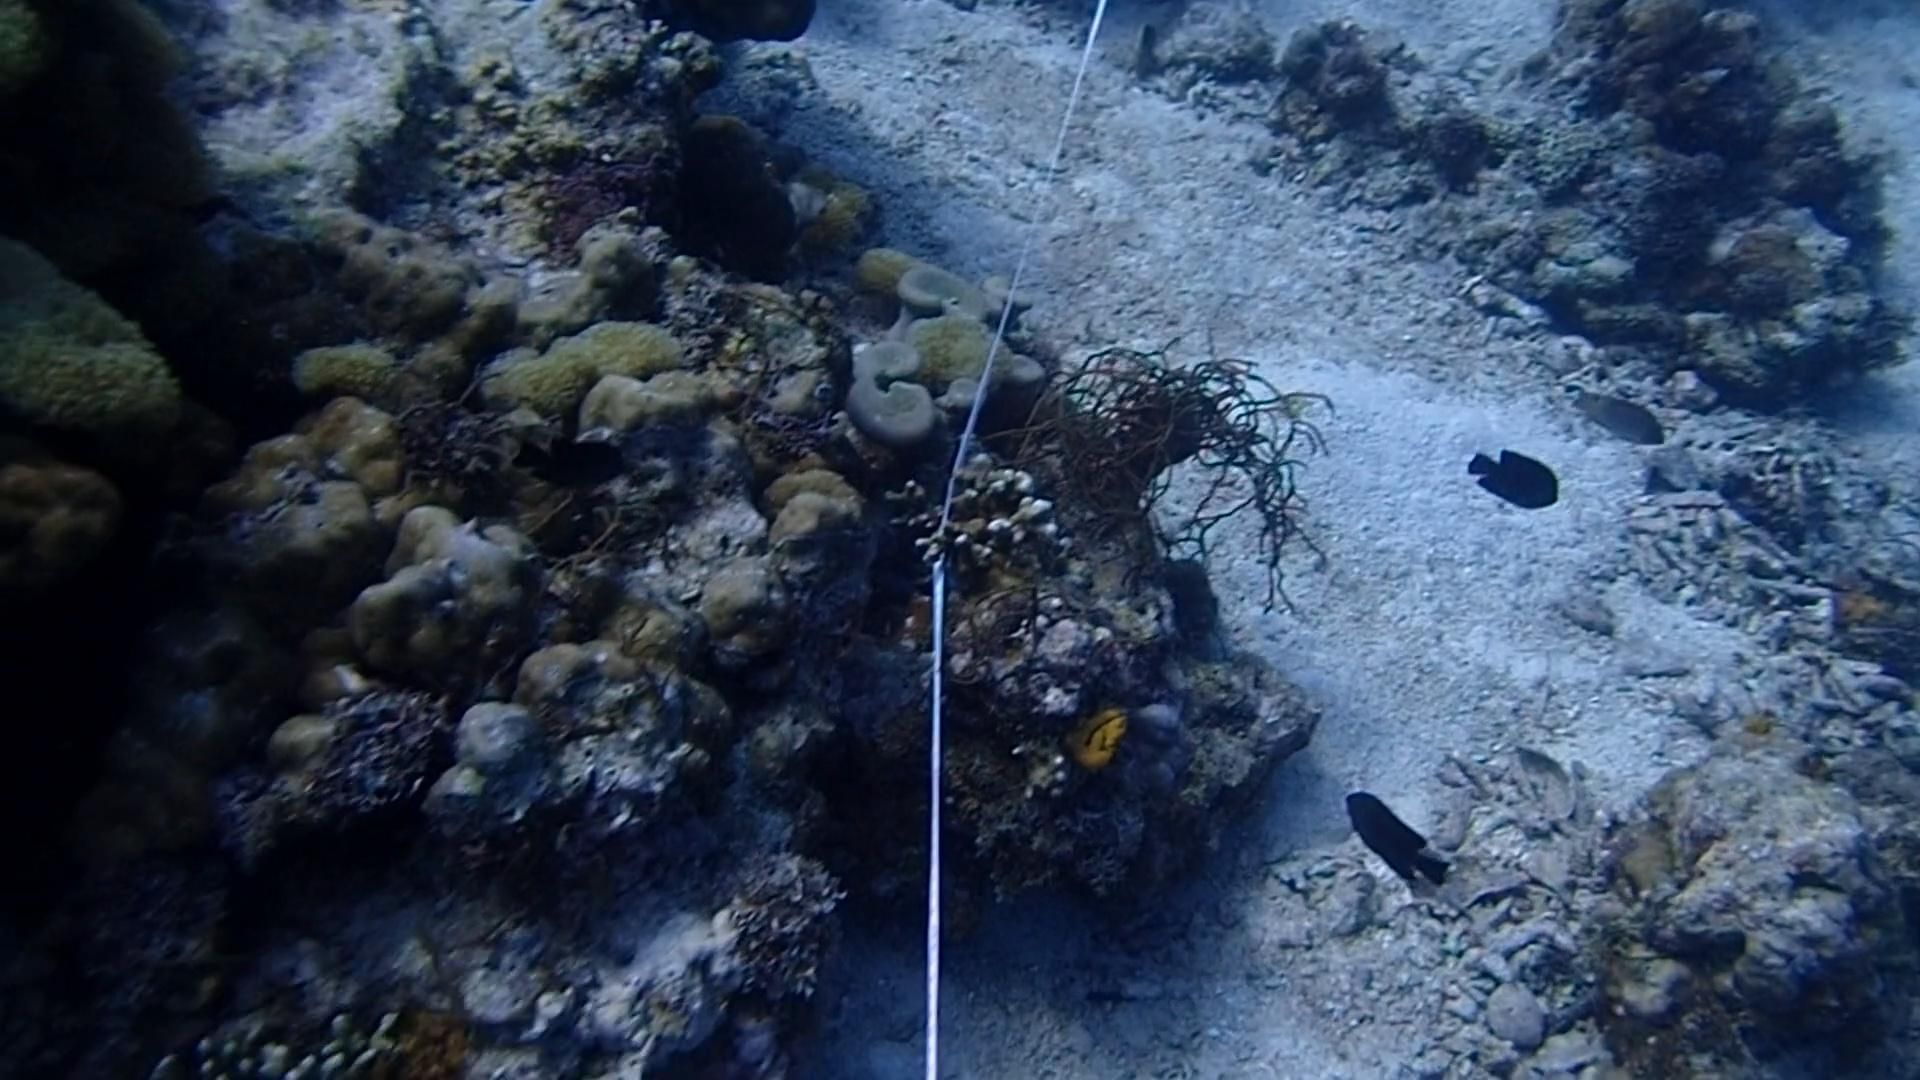Dark Fish: (1331, 775, 1455, 885), (1445, 436, 1573, 521)
Light Fish: (1567, 381, 1680, 455)
